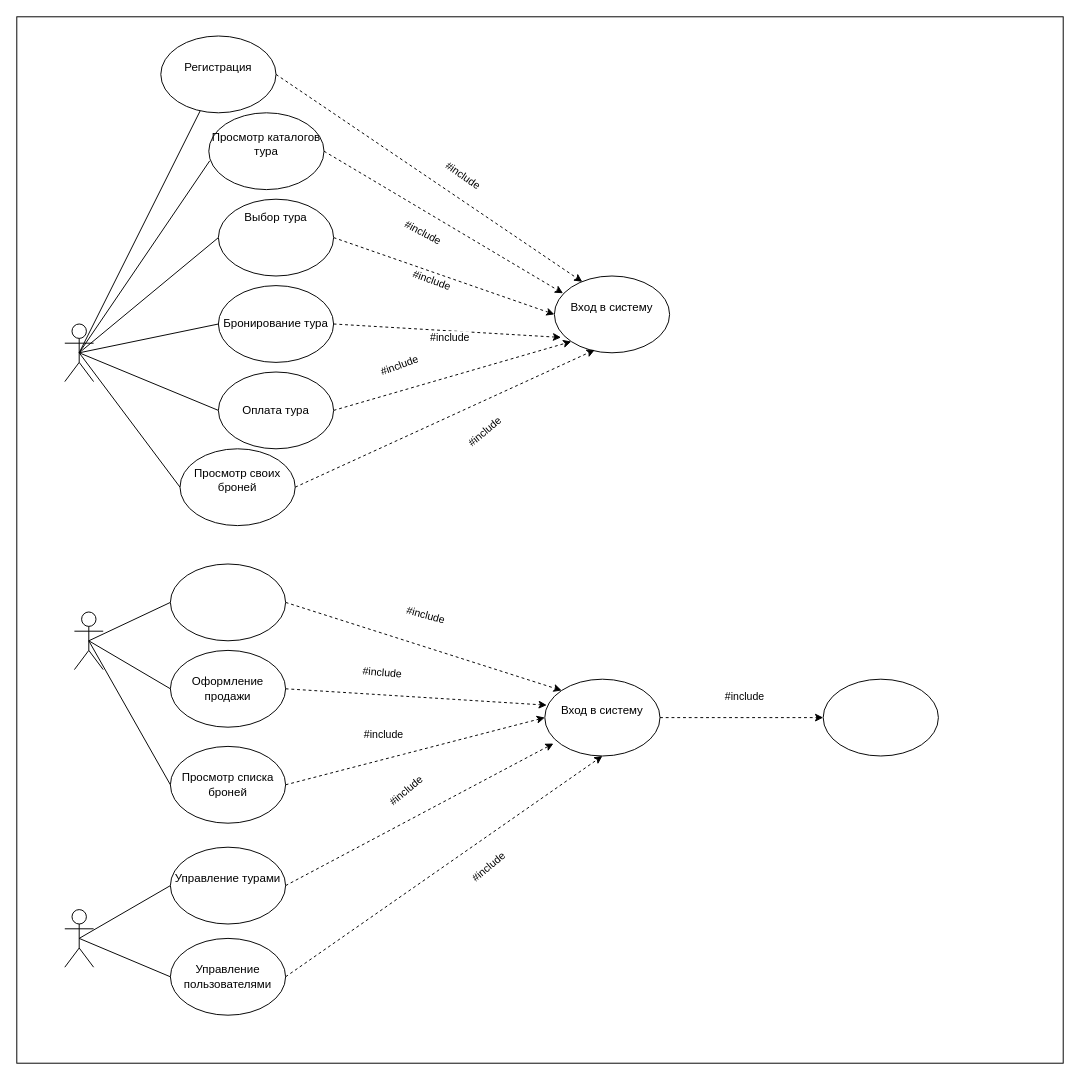
The diagram is 1080 pixels wide and 1080 high, and some of its shapes have lost their labels. Here are the shapes that lost their labels. From the top down, the box of each, then its label:
(64, 323, 94, 382): Клиент
(169, 563, 286, 641): Подтверждение бронирования
(73, 611, 103, 670): Менеджер
(822, 678, 938, 756): Авторизация пользователя
(64, 909, 94, 967): Администратор
